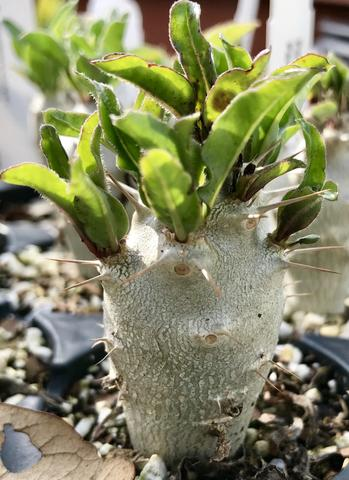Pachypodium saundersii: (46, 12, 334, 470)
